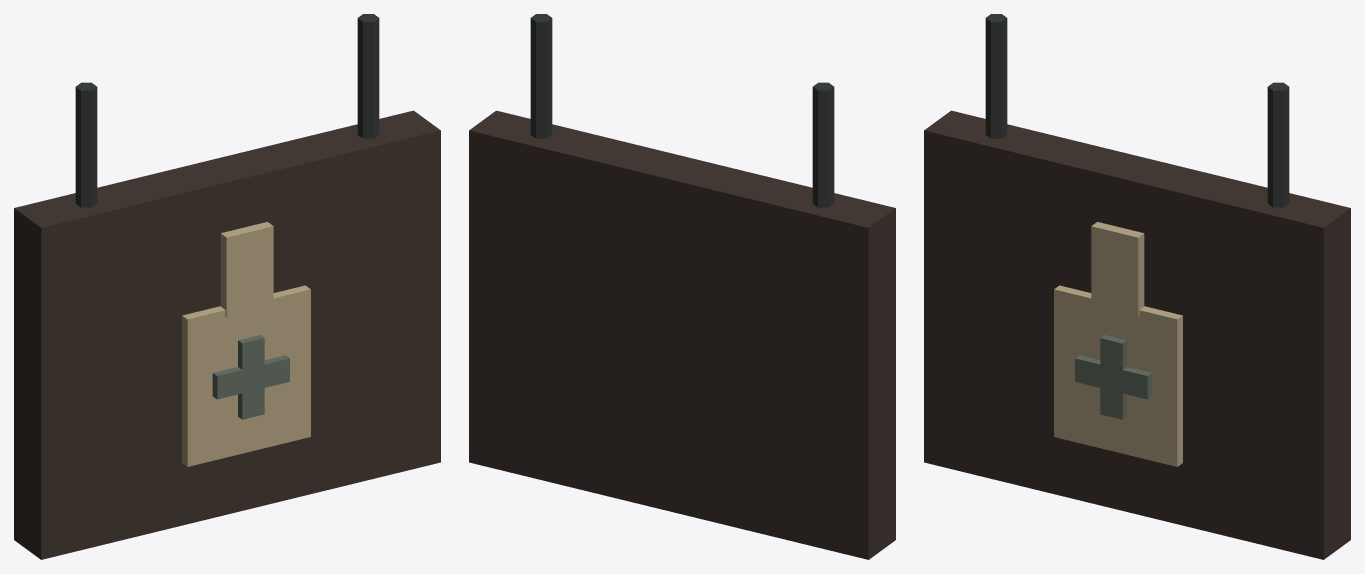
Rendered from sign_apothecary.glb.
The picture shows the model from 3 angles, left to right: view 1: azimuth 30°, elevation 25°; view 2: azimuth 150°, elevation 25°; view 3: azimuth 330°, elevation 25°; orthographic projection.
Visible parts, largest first — view 1: signboard.001, bottle mark, bottle neck mark, sign chain.002, sign chain.003, herbal cross, herbal cross.001; view 2: signboard.001, sign chain.002, sign chain.003; view 3: signboard.001, bottle mark, bottle neck mark, sign chain.003, sign chain.002, herbal cross, herbal cross.001.
Part boxes in pixels (bbox=[...]): signboard.001: bbox=[14, 110, 440, 559]; bottle mark: bbox=[182, 285, 310, 466]; bottle neck mark: bbox=[220, 222, 273, 317]; sign chain.002: bbox=[75, 82, 97, 207]; sign chain.003: bbox=[357, 14, 379, 138]; herbal cross: bbox=[212, 355, 289, 399]; herbal cross.001: bbox=[238, 335, 264, 419]; signboard.001: bbox=[469, 110, 895, 559]; sign chain.002: bbox=[812, 82, 834, 207]; sign chain.003: bbox=[530, 14, 552, 138]; signboard.001: bbox=[924, 110, 1350, 559]; bottle mark: bbox=[1054, 285, 1182, 466]; bottle neck mark: bbox=[1091, 222, 1144, 317]; sign chain.003: bbox=[1267, 82, 1289, 207]; sign chain.002: bbox=[985, 14, 1007, 138]; herbal cross: bbox=[1075, 355, 1152, 399]; herbal cross.001: bbox=[1100, 335, 1126, 419].
Bounding box in the file's own units: 0.34 × 0.365 × 0.0585.
